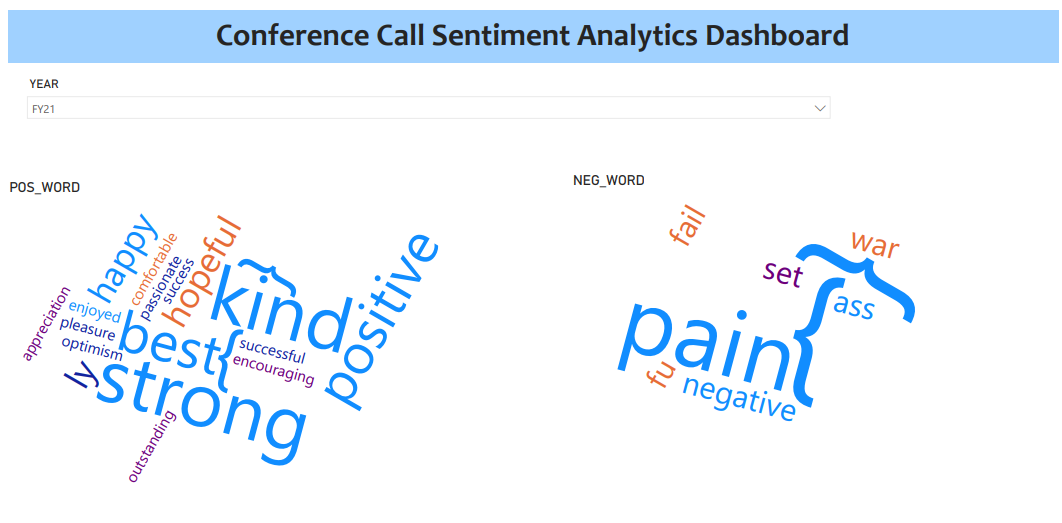

This screenshot's page, from the dashboard's own definition file:
{"tool":"powerbi","page":{"name":"Word Cloud","canvas":[1280,720],"ordinal":4},"visuals":[{"type":"textbox","box":[10,0,280,280],"z":0},{"type":"WordCloud1447959067750","fields":{"Category":["sentiment_analysis (3).POS_WORD"]},"box":[10,213.2,603.4,457.5],"z":1000},{"type":"WordCloud1447959067750","fields":{"Category":["sentiment_analysis (3).NEG_WORD"]},"box":[685.6,204.4,594.6,489.9],"z":2000},{"type":"slicer","fields":{"Values":["sentiment_analysis (3).YEAR"]},"box":[25.9,85.9,984.5,71.7],"z":3000},{"type":"textbox","box":[12.5,10.8,1259.8,62.6],"z":4000}]}

Visuals, with their boxes on the page's 1280x720 design canvas (x1, y1, x2, y2). These are canvas units, not pixel positions in the 1062x523 screenshot, which may show the page scaled, cropped or inside an application window:
textbox: x1=10 y1=0 x2=290 y2=280
WordCloud1447959067750 - sentiment_analysis (3).POS_WORD: x1=10 y1=213 x2=613 y2=671
WordCloud1447959067750 - sentiment_analysis (3).NEG_WORD: x1=686 y1=204 x2=1280 y2=694
slicer - sentiment_analysis (3).YEAR: x1=26 y1=86 x2=1010 y2=158
textbox: x1=12 y1=11 x2=1272 y2=73
